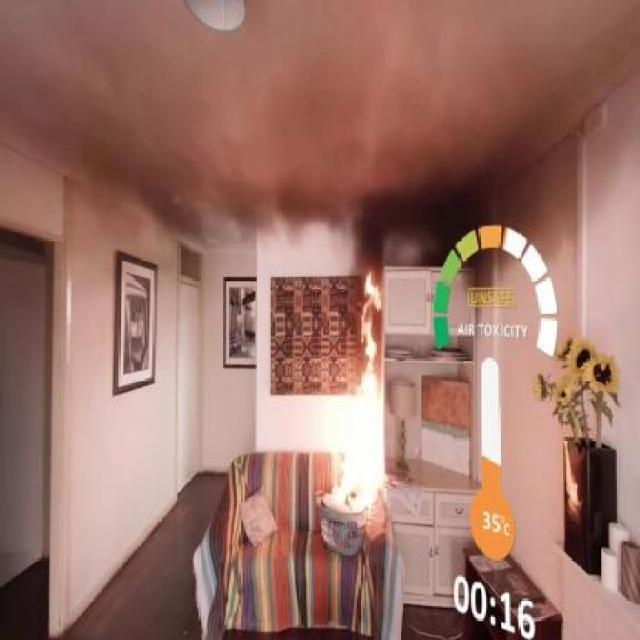smoke: (300, 167, 516, 267)
